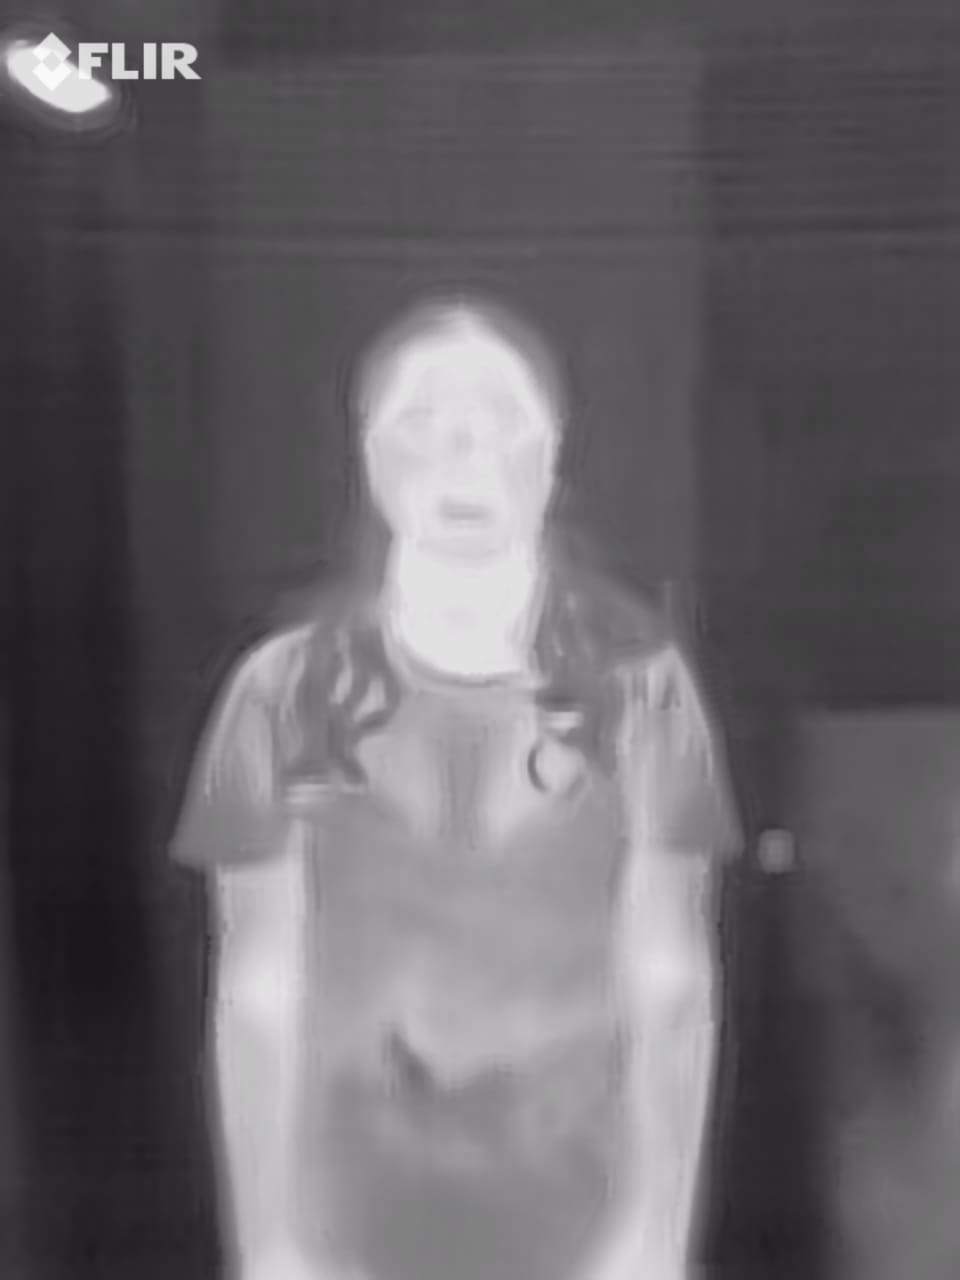head: (334, 276, 575, 614)
